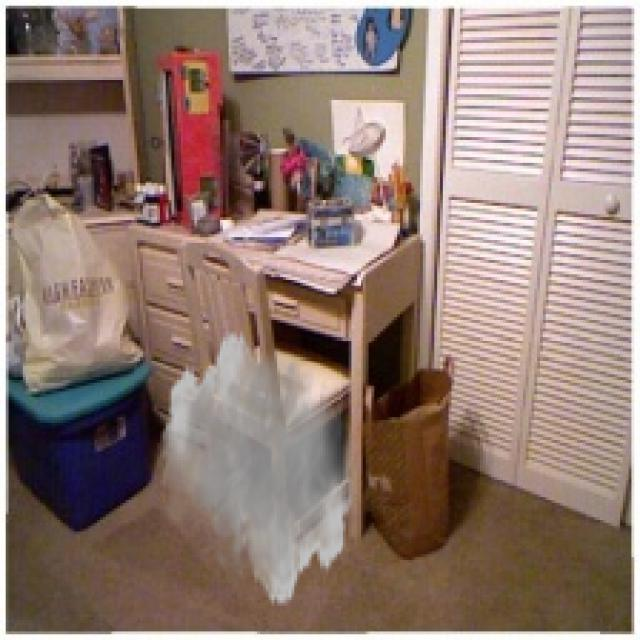smoke: (157, 328, 357, 608)
